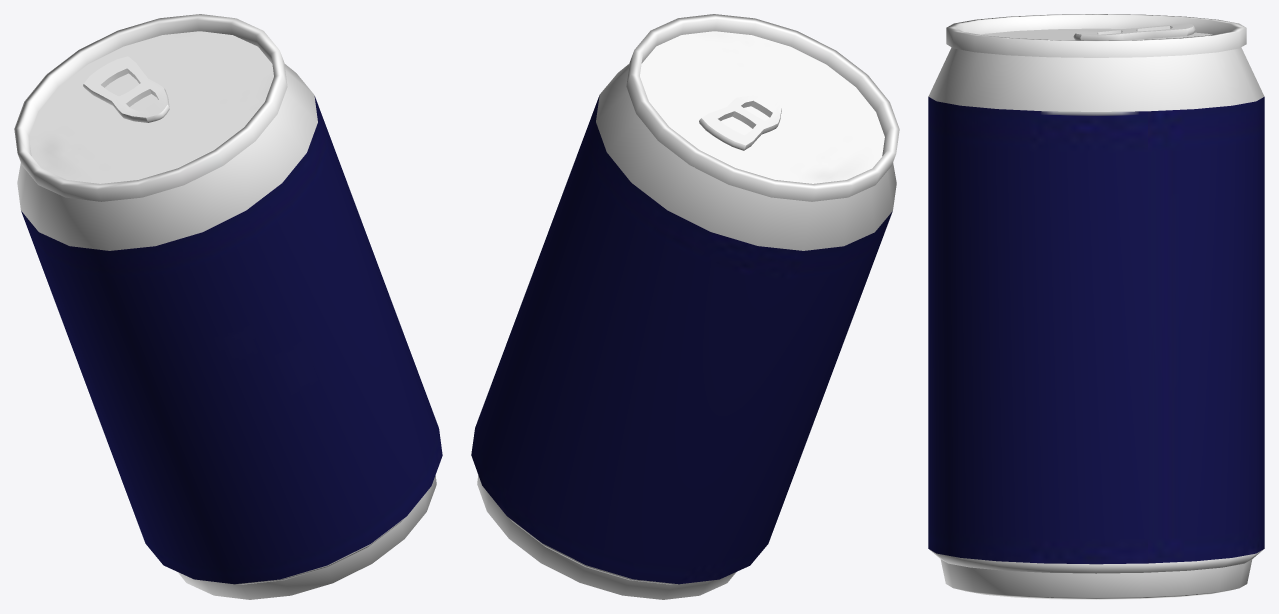
The model's file is pickup_can.fbx.
3 views of the same model, side by side, from view 1: azimuth 30°, elevation 25°; view 2: azimuth 150°, elevation 25°; view 3: azimuth 270°, elevation 25° (orthographic). The views are drawn at different scales.
Visible parts, largest first — view 1: can; view 2: can; view 3: can.
Boxes of the visible parts, <box> form: can: <box>14,14,442,599</box>; can: <box>471,14,899,599</box>; can: <box>928,14,1264,599</box>.
Bounding box in the file's own units: 2.41 × 3.17 × 1.7.
Materials: 1 (1 with a texture image).
